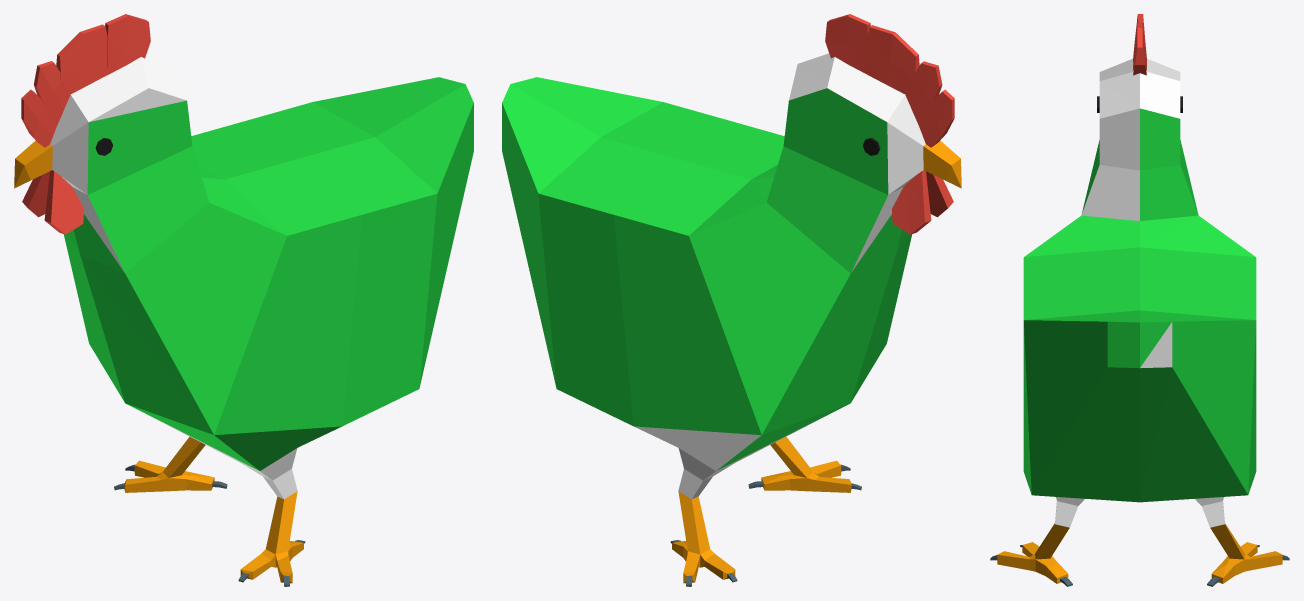
The model's file is green.gltf.
The picture shows the model from 3 angles, left to right: view 1: azimuth 30°, elevation 25°; view 2: azimuth 150°, elevation 25°; view 3: azimuth 270°, elevation 25°; orthographic projection. The views are drawn at different scales.
Parts seen in each view (by area): view 1: node-0; view 2: node-0; view 3: node-0.
Part boxes in pixels (<box>): node-0: <box>14,14,473,586</box>; node-0: <box>502,14,961,586</box>; node-0: <box>990,14,1289,586</box>.
Size of the model in its own units: 167 by 189 by 103.
